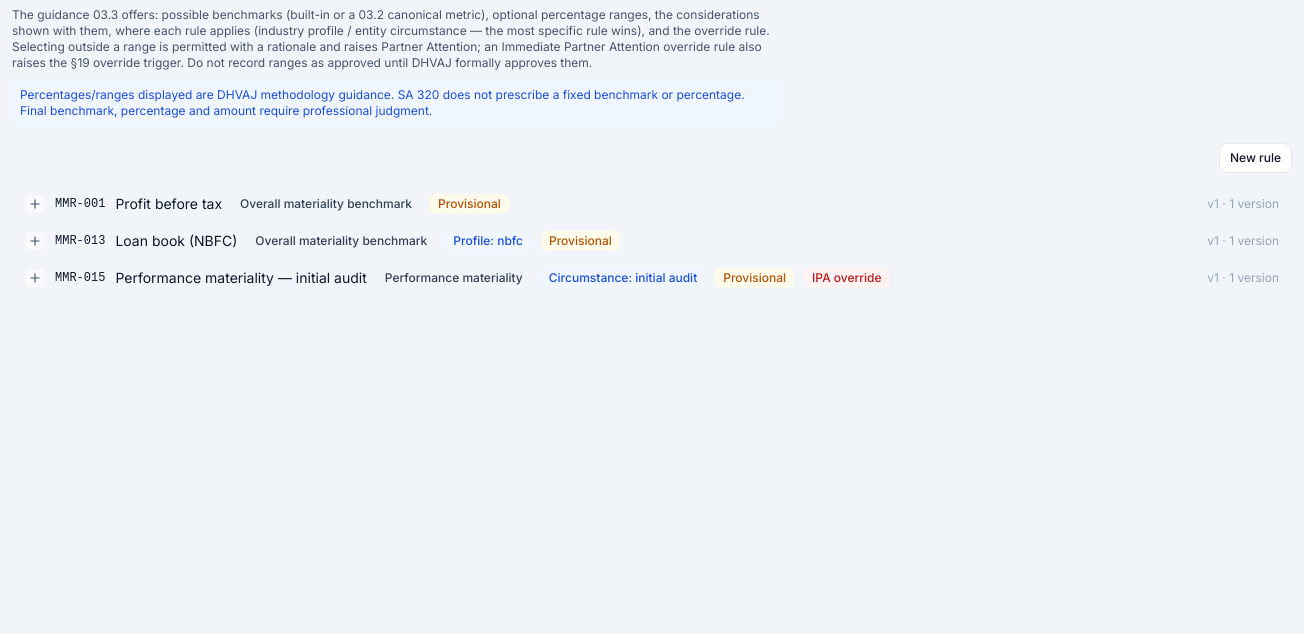
Scenario: Materiality Methodology Library administration › requires a label for a metric benchmark before a new rule reaches the API
Click the button "New rule" at (1256, 158), box [1219,143,1292,173]
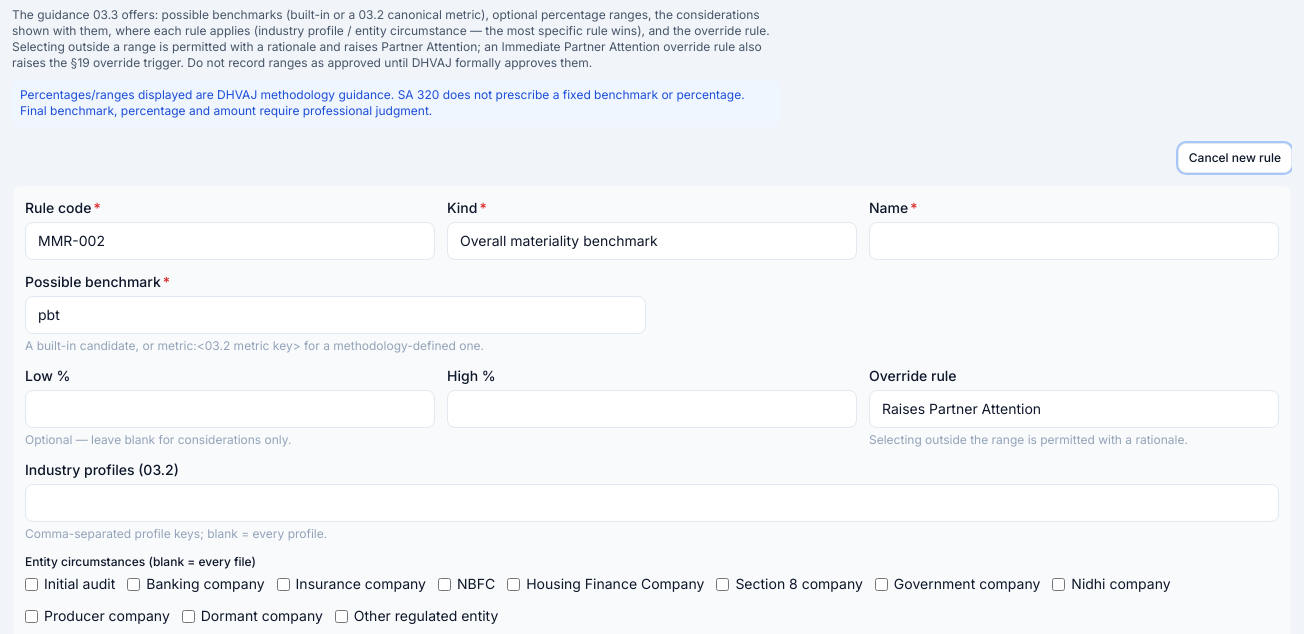
Check: the field showing "MMR-002" is shown, box [25,222,435,260]
Type "Gross written premium" into the field labelled "Name*" at (1074, 241), box [869,222,1279,260]
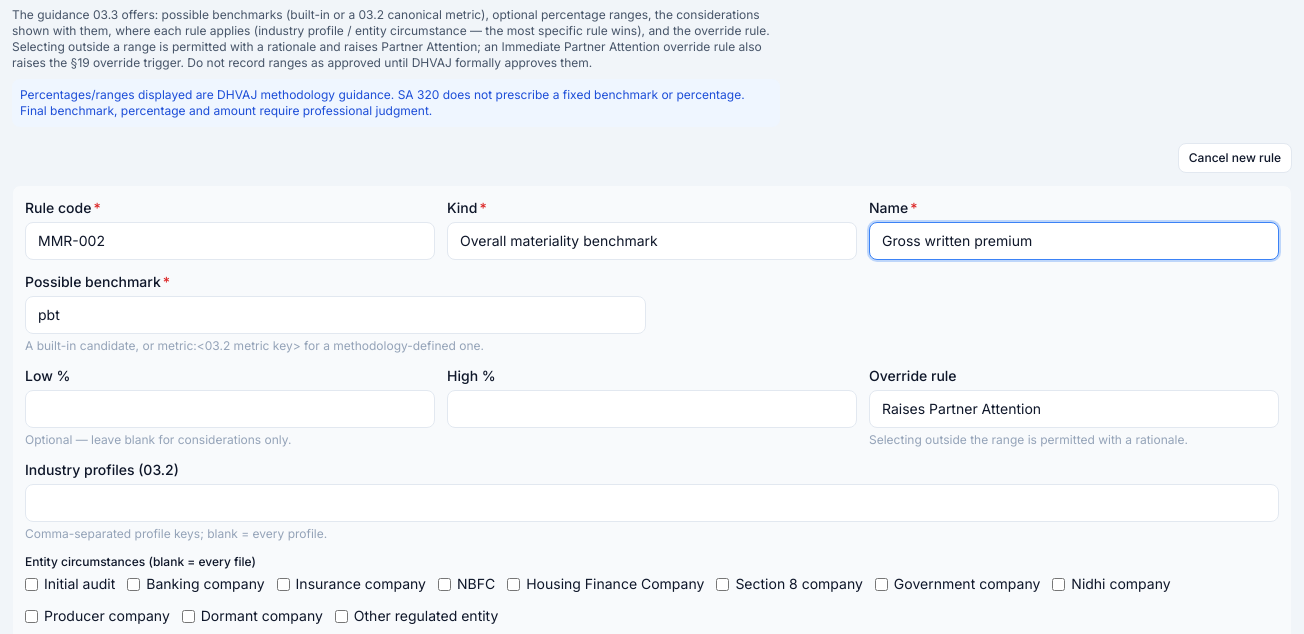
Replace the text in the field labelled "Possible benchmark" with "metric:gross_premium" at (336, 315), box [25,296,646,334]
(page scrolled)
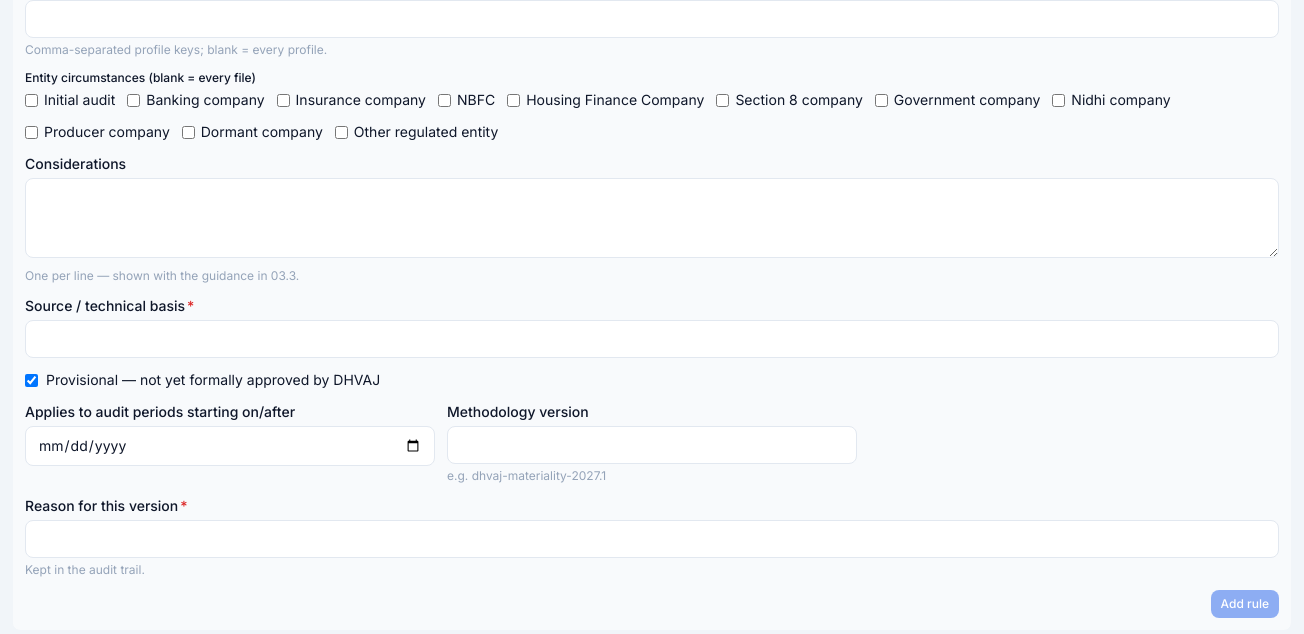
Type "DHVAJ insurance note" into the field labelled "Source / technical basis*" at (652, 339), box [25,320,1279,358]
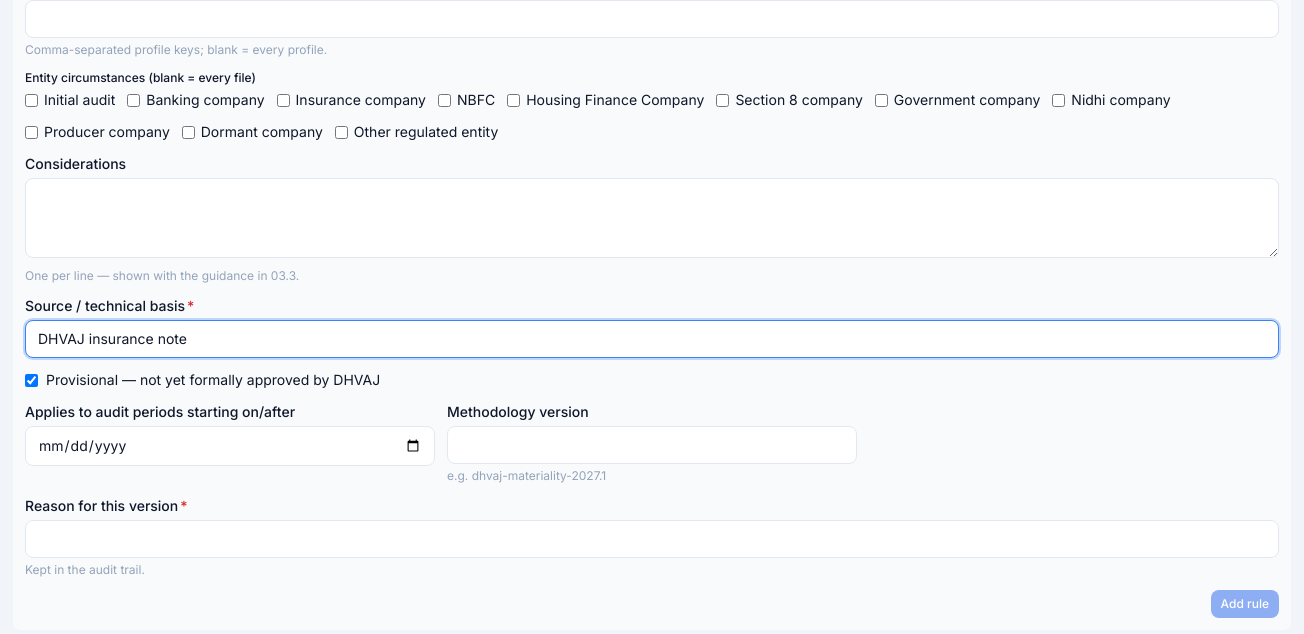
Type "Insurance files" into the field labelled "Reason for this version* Kept in the audit trail." at (652, 539), box [25,520,1279,558]
(page scrolled)
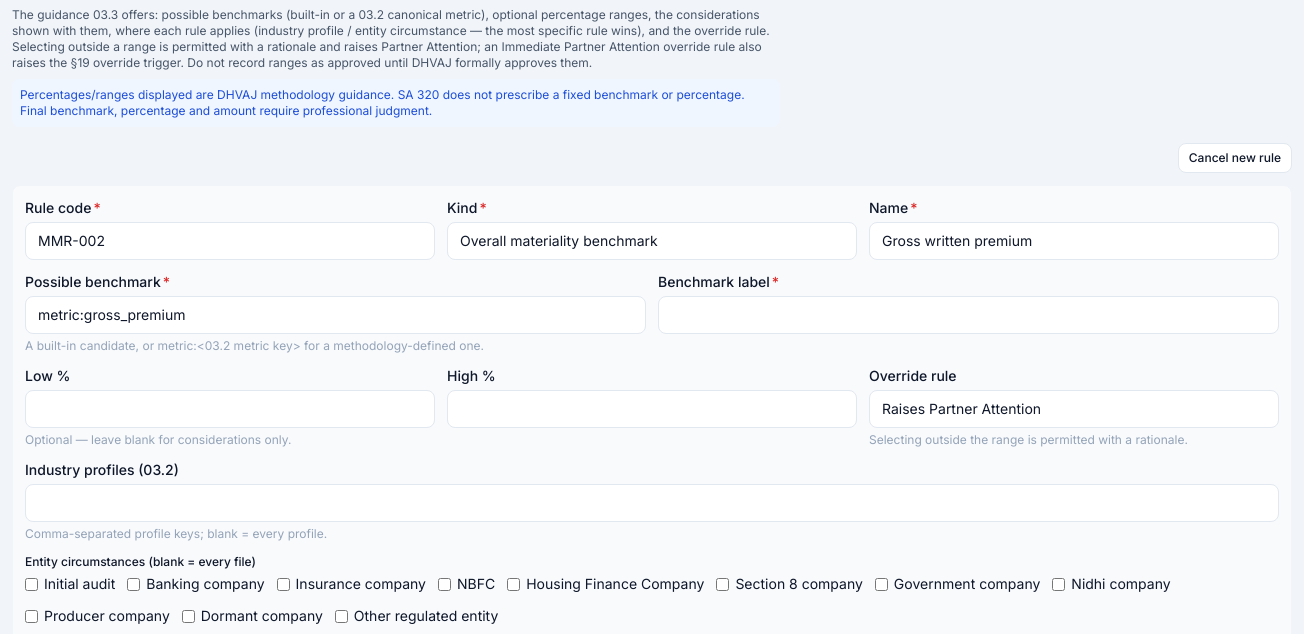
Type "Gross written premium" into the field labelled "Benchmark label*" at (968, 315), box [658,296,1279,334]
(page scrolled)
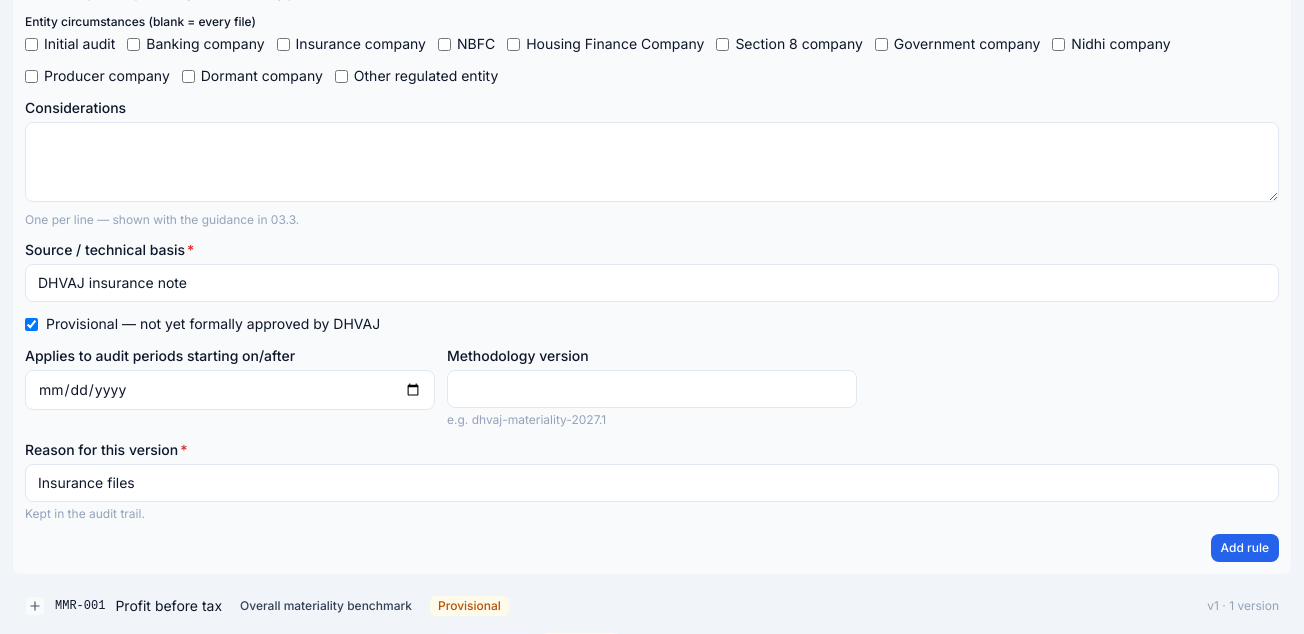
Check: the button "Add rule" is enabled, box [1211,534,1279,562]
